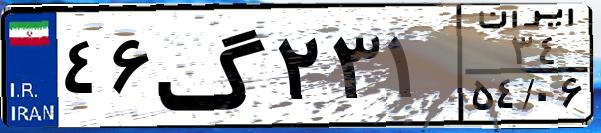0: (535, 70, 560, 125)
1: (385, 28, 445, 110)
2: (270, 28, 330, 110)
3: (330, 28, 385, 110), (508, 27, 537, 80)
4: (57, 26, 110, 100), (537, 27, 568, 80), (495, 70, 520, 125)
5: (470, 70, 495, 125)
6: (110, 28, 156, 98), (560, 70, 590, 125)
گ: (156, 12, 270, 120)
